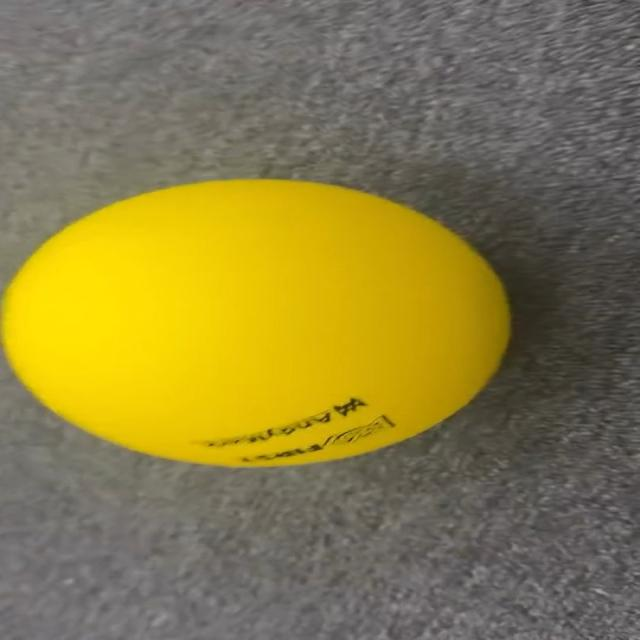Fuels: (3, 182, 511, 463)
